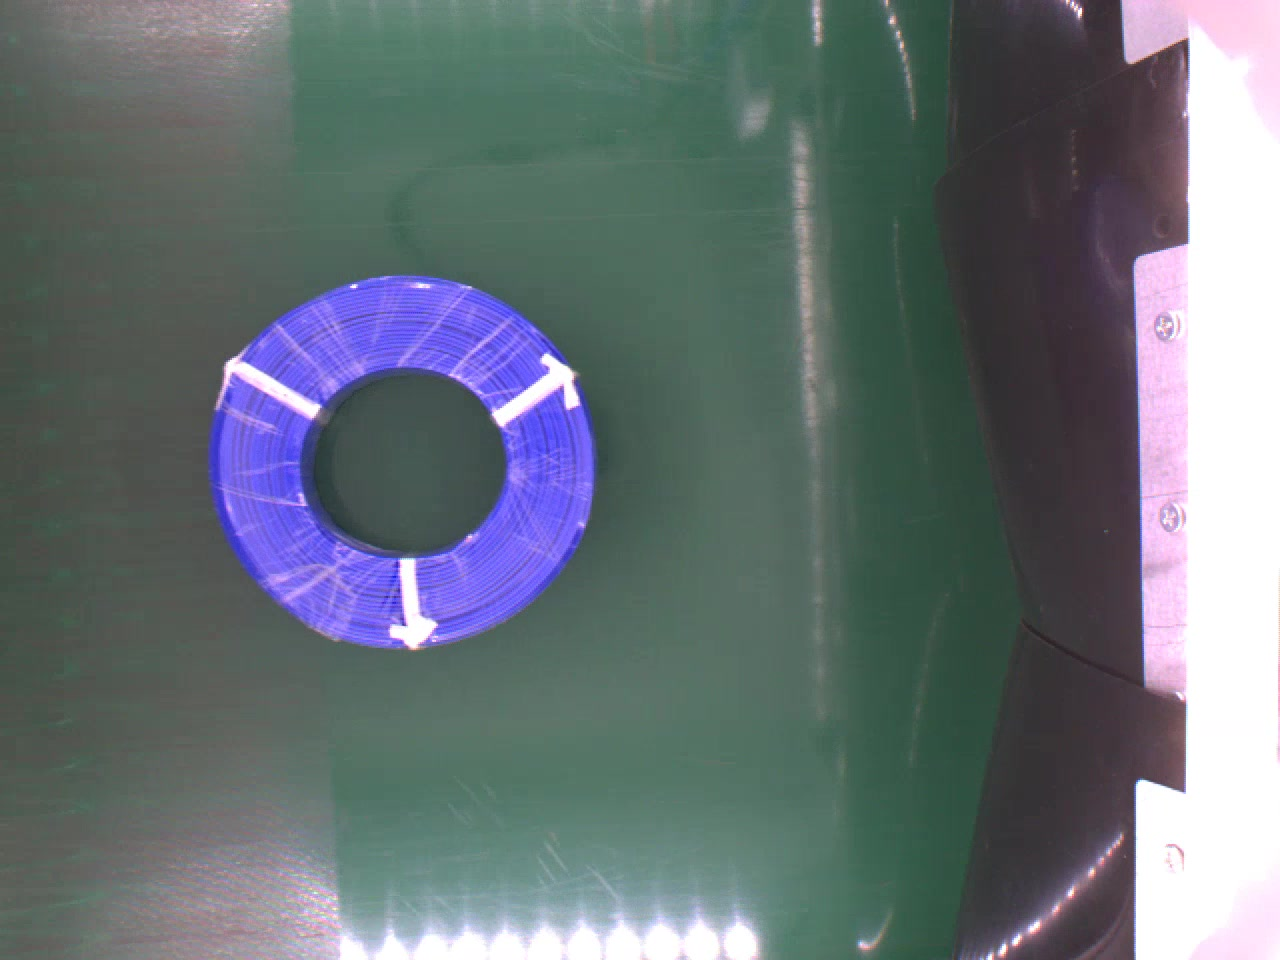blue: (209, 272, 597, 653)
